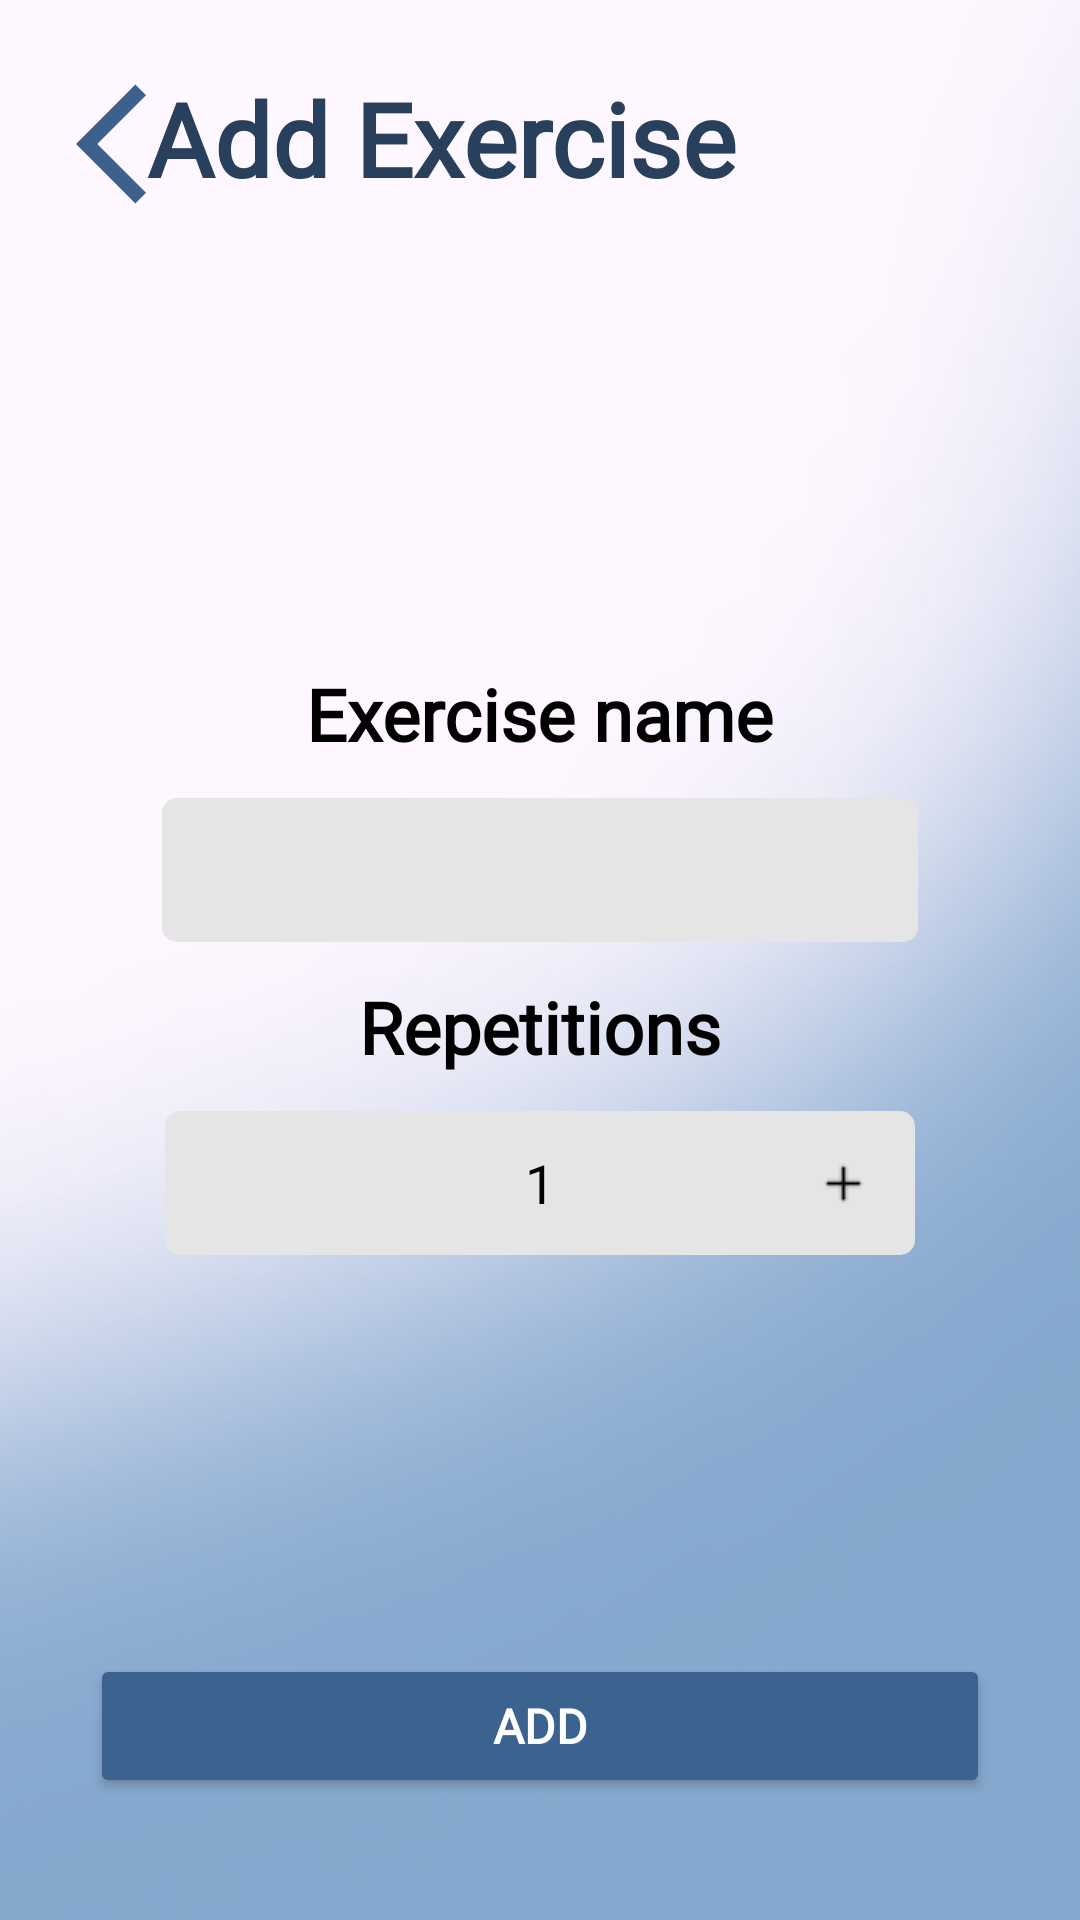

Icon click points for this 1080px x 1920px phone screenshot, format point (x, y):
Increase: point (843, 1183)
